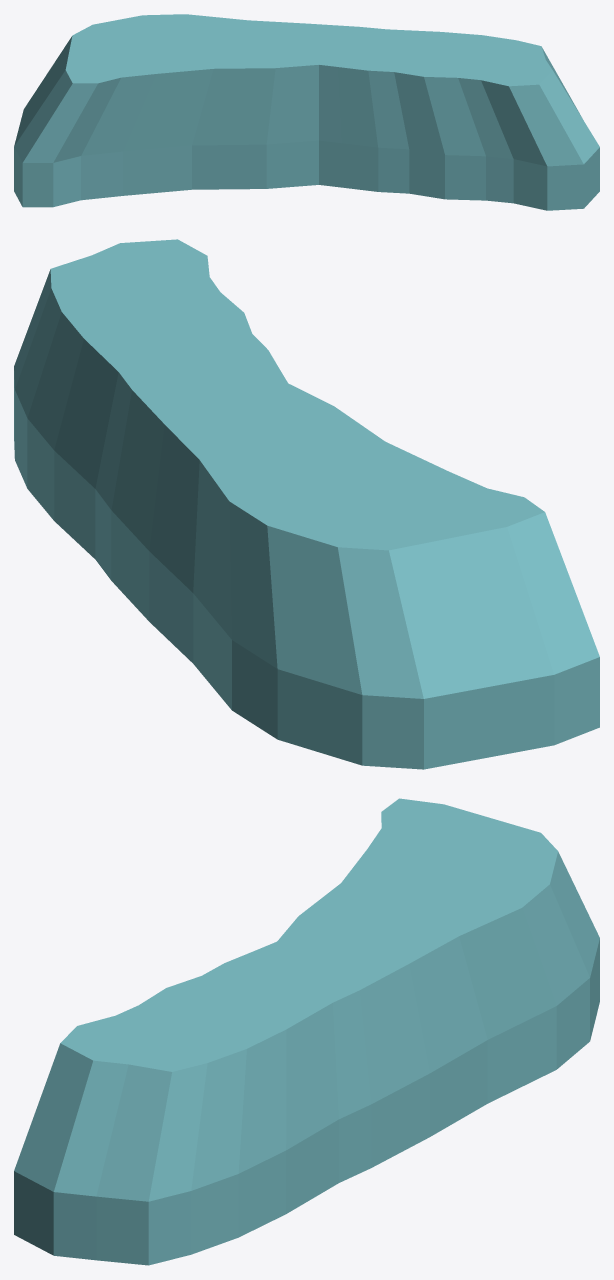
File: BlueObstacle6.fbx
3 renders of one model, top to bottom at view 1: azimuth 30°, elevation 25°; view 2: azimuth 150°, elevation 25°; view 3: azimuth 270°, elevation 25°, orthographic. The views are drawn at different scales.
Parts seen in each view (by area): view 1: BlueObstacle6; view 2: BlueObstacle6; view 3: BlueObstacle6.
Boxes of the visible parts, x1,y1,x2,y2 form: BlueObstacle6: (14,14,599,210); BlueObstacle6: (14,239,599,769); BlueObstacle6: (14,798,599,1265).
Bounding box in the file's own units: 6.27 × 1.54 × 4.78.
